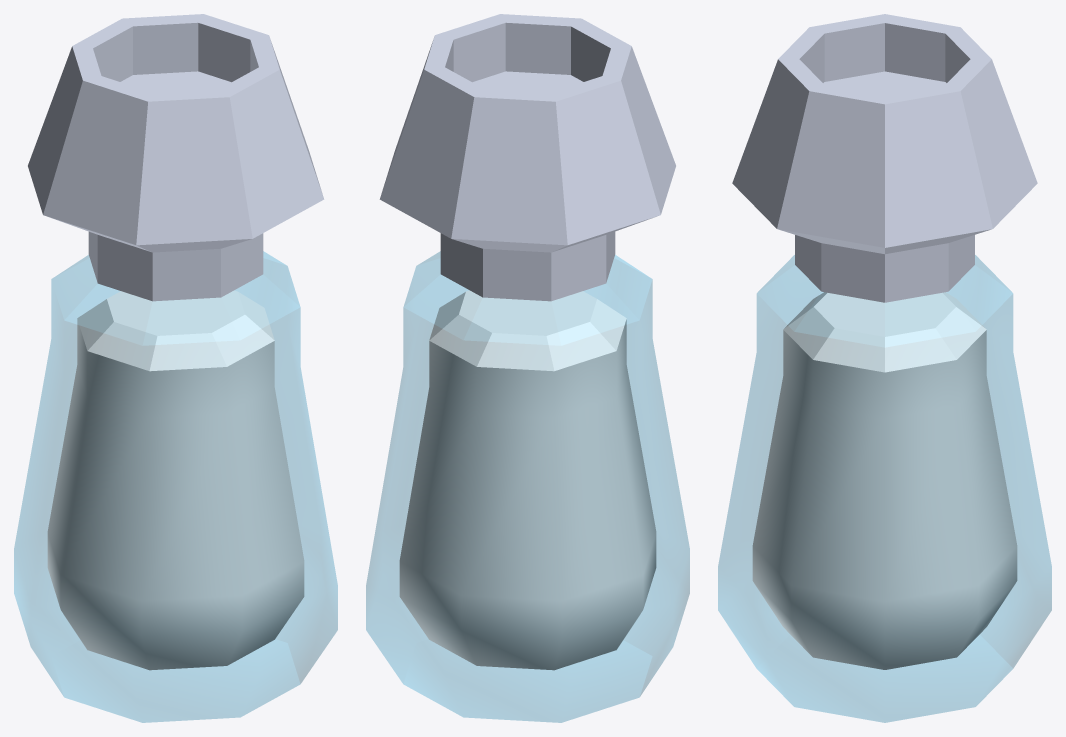
Rendered from SM_pepper_01.fbx.
The picture shows the model from 3 angles, left to right: view 1: azimuth 30°, elevation 25°; view 2: azimuth 150°, elevation 25°; view 3: azimuth 270°, elevation 25°; orthographic projection.
Parts seen in each view (by area): view 1: pepper_01; view 2: pepper_01; view 3: pepper_01.
Boxes of the visible parts, x1,y1,x2,y2 form: pepper_01: [14, 14, 337, 722]; pepper_01: [366, 14, 689, 722]; pepper_01: [718, 14, 1051, 722].
Size of the model in its own units: 9.32 by 18.79 by 9.32.
